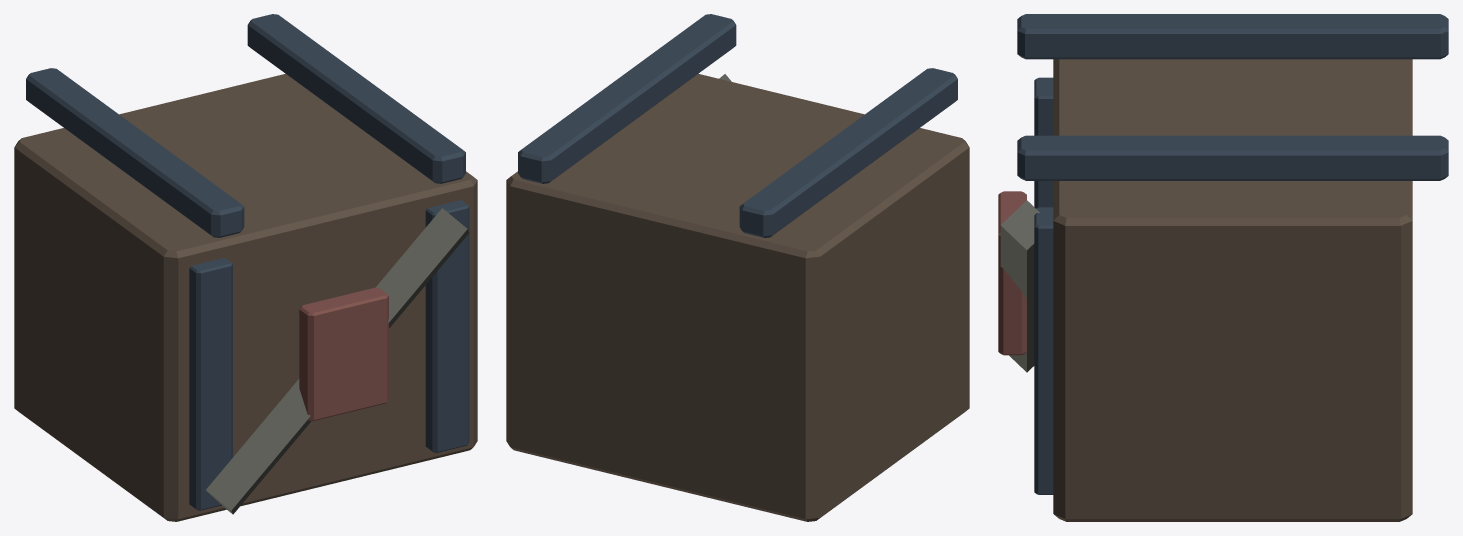
File: siege-crate.glb
3 renders of one model, left to right at view 1: azimuth 30°, elevation 25°; view 2: azimuth 150°, elevation 25°; view 3: azimuth 270°, elevation 25°, orthographic. The views are drawn at different scales.
Parts seen in each view (by area): view 1: siege-crate__body; view 2: siege-crate__body; view 3: siege-crate__body.
Boxes of the visible parts, box(x1,y1,x2,y2) form: siege-crate__body: box(14, 14, 477, 521); siege-crate__body: box(506, 14, 969, 521); siege-crate__body: box(998, 14, 1448, 521).
Bounding box in the file's own units: 0.85 × 0.82 × 0.94.
